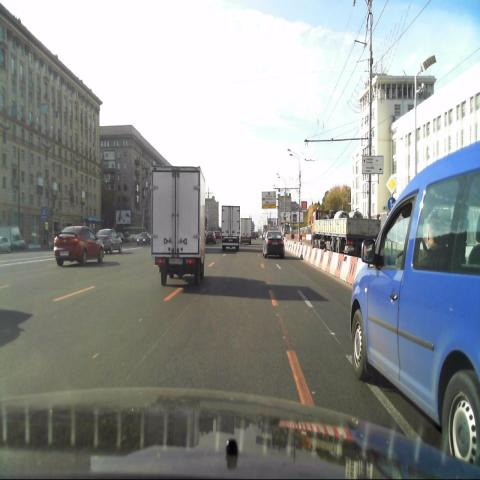2_1: (385, 174, 397, 196)
4_1_4: (387, 196, 395, 212)
